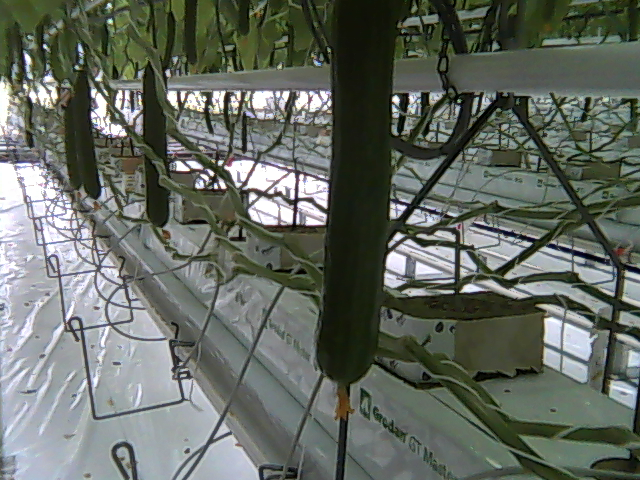concombre: (310, 1, 406, 422)
